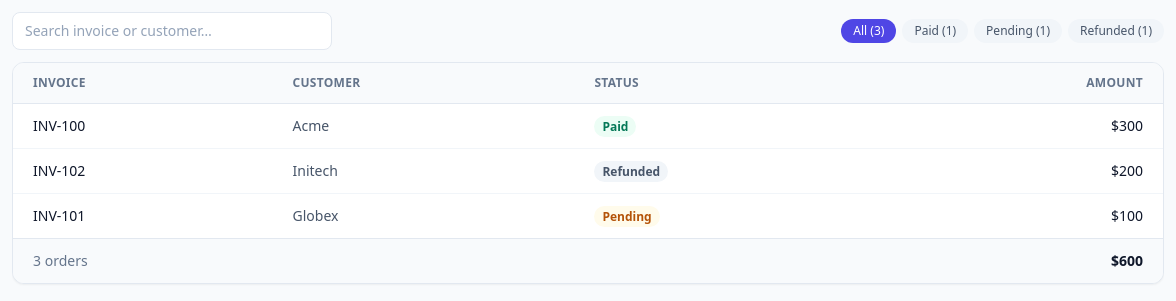
Test: <FilterableOrders /> › totals the visible amounts in the footer
Click the button with test id "filter-paid".
click(935, 31)  # box left=902, top=19, right=968, bottom=43
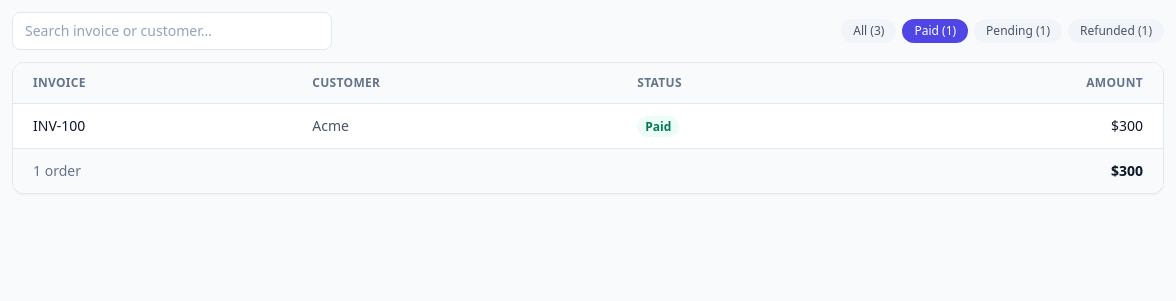
Expected: the cell with test id "orders-total" reads "$300", left=1111, top=161, right=1143, bottom=180
